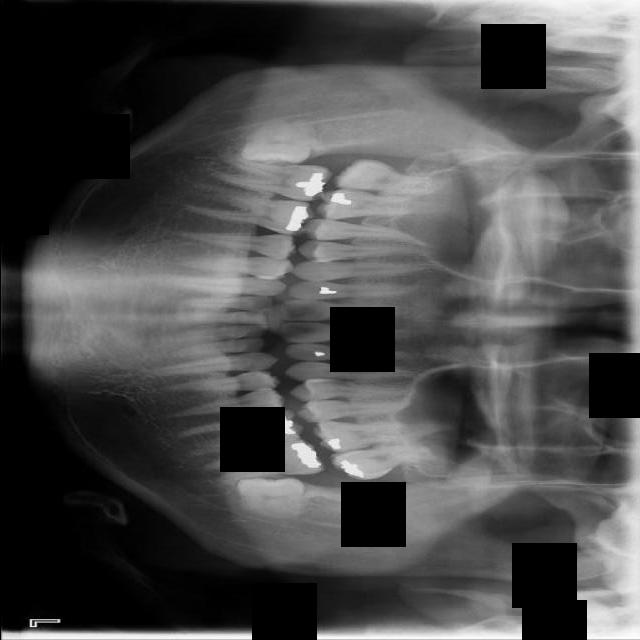52: (265, 430, 326, 486), (275, 155, 333, 208), (255, 192, 315, 240), (313, 185, 373, 222), (327, 448, 392, 481), (311, 419, 371, 454), (250, 408, 305, 444), (288, 278, 338, 302), (283, 343, 339, 362)
73: (37, 604, 48, 611)
BioHorizons Implant: (327, 438, 438, 484)
Biomet 3i Implant: (231, 471, 304, 520)
Blue Sky Bio Implant: (199, 434, 325, 488)
Caries: (332, 155, 448, 199)
Implant: (206, 153, 333, 204)
Keystone Dental Implant: (241, 115, 312, 167)
